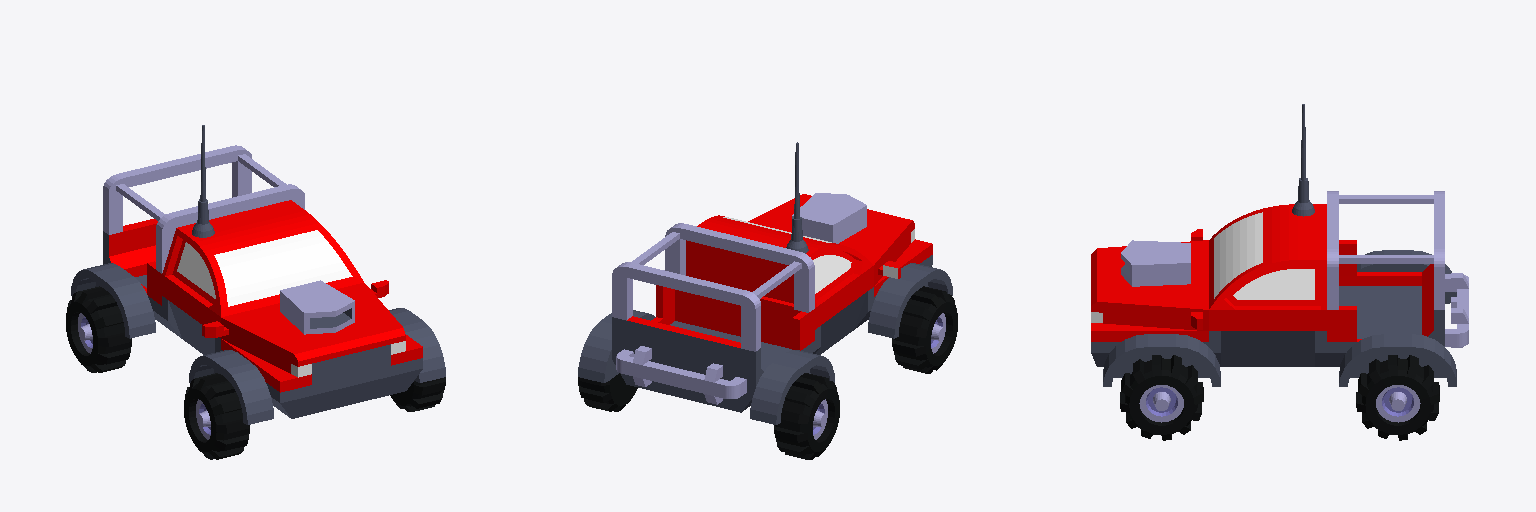
Rendered from buggy1.obj.
3 views of the same model, side by side, from view 1: azimuth 30°, elevation 25°; view 2: azimuth 150°, elevation 25°; view 3: azimuth 270°, elevation 25° (orthographic).
Visible parts, largest first — view 1: mergedBlocks; view 2: mergedBlocks; view 3: mergedBlocks.
Part boxes in pixels (bbox=[...]): mergedBlocks: bbox=[66, 125, 445, 459]; mergedBlocks: bbox=[578, 142, 957, 459]; mergedBlocks: bbox=[1091, 104, 1468, 440].
Size of the model in its own units: 0.7871 by 0.8602 by 1.12.